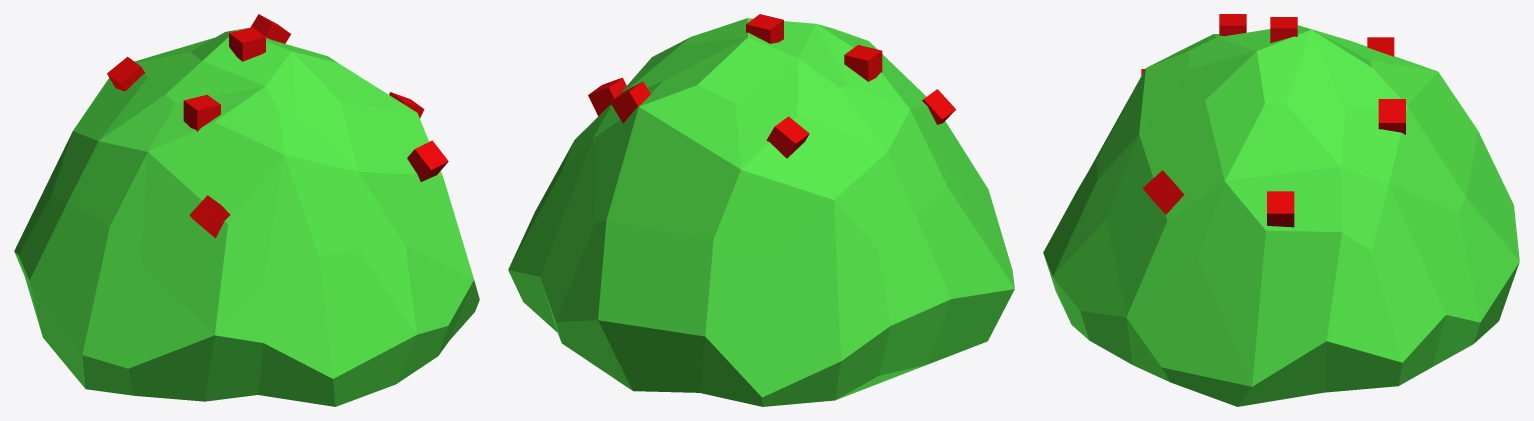
The model's file is Bush-1.fbx.
3 views of the same model, side by side, from view 1: azimuth 30°, elevation 25°; view 2: azimuth 150°, elevation 25°; view 3: azimuth 270°, elevation 25° (orthographic). The views are drawn at different scales.
Parts seen in each view (by area): view 1: Sphere.004; view 2: Sphere.004; view 3: Sphere.004.
Boxes of the visible parts, left/top/right/bottom form: Sphere.004: left=14, top=14, right=479, bottom=406; Sphere.004: left=508, top=14, right=1014, bottom=406; Sphere.004: left=1043, top=14, right=1519, bottom=406.
Bounding box in the file's own units: 274 × 191 × 277.
